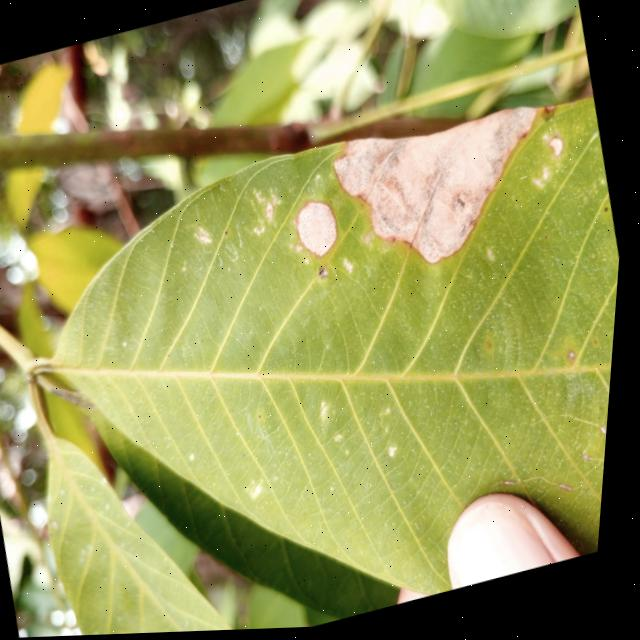Leaf-Blight: (325, 95, 566, 289), (292, 198, 347, 265), (548, 139, 567, 162)
